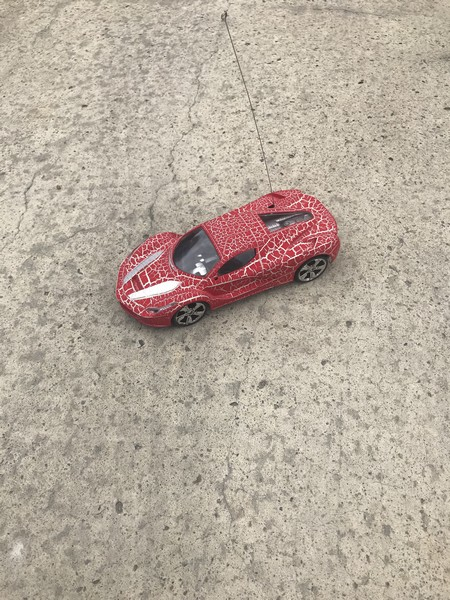RC: (115, 189, 345, 330)
